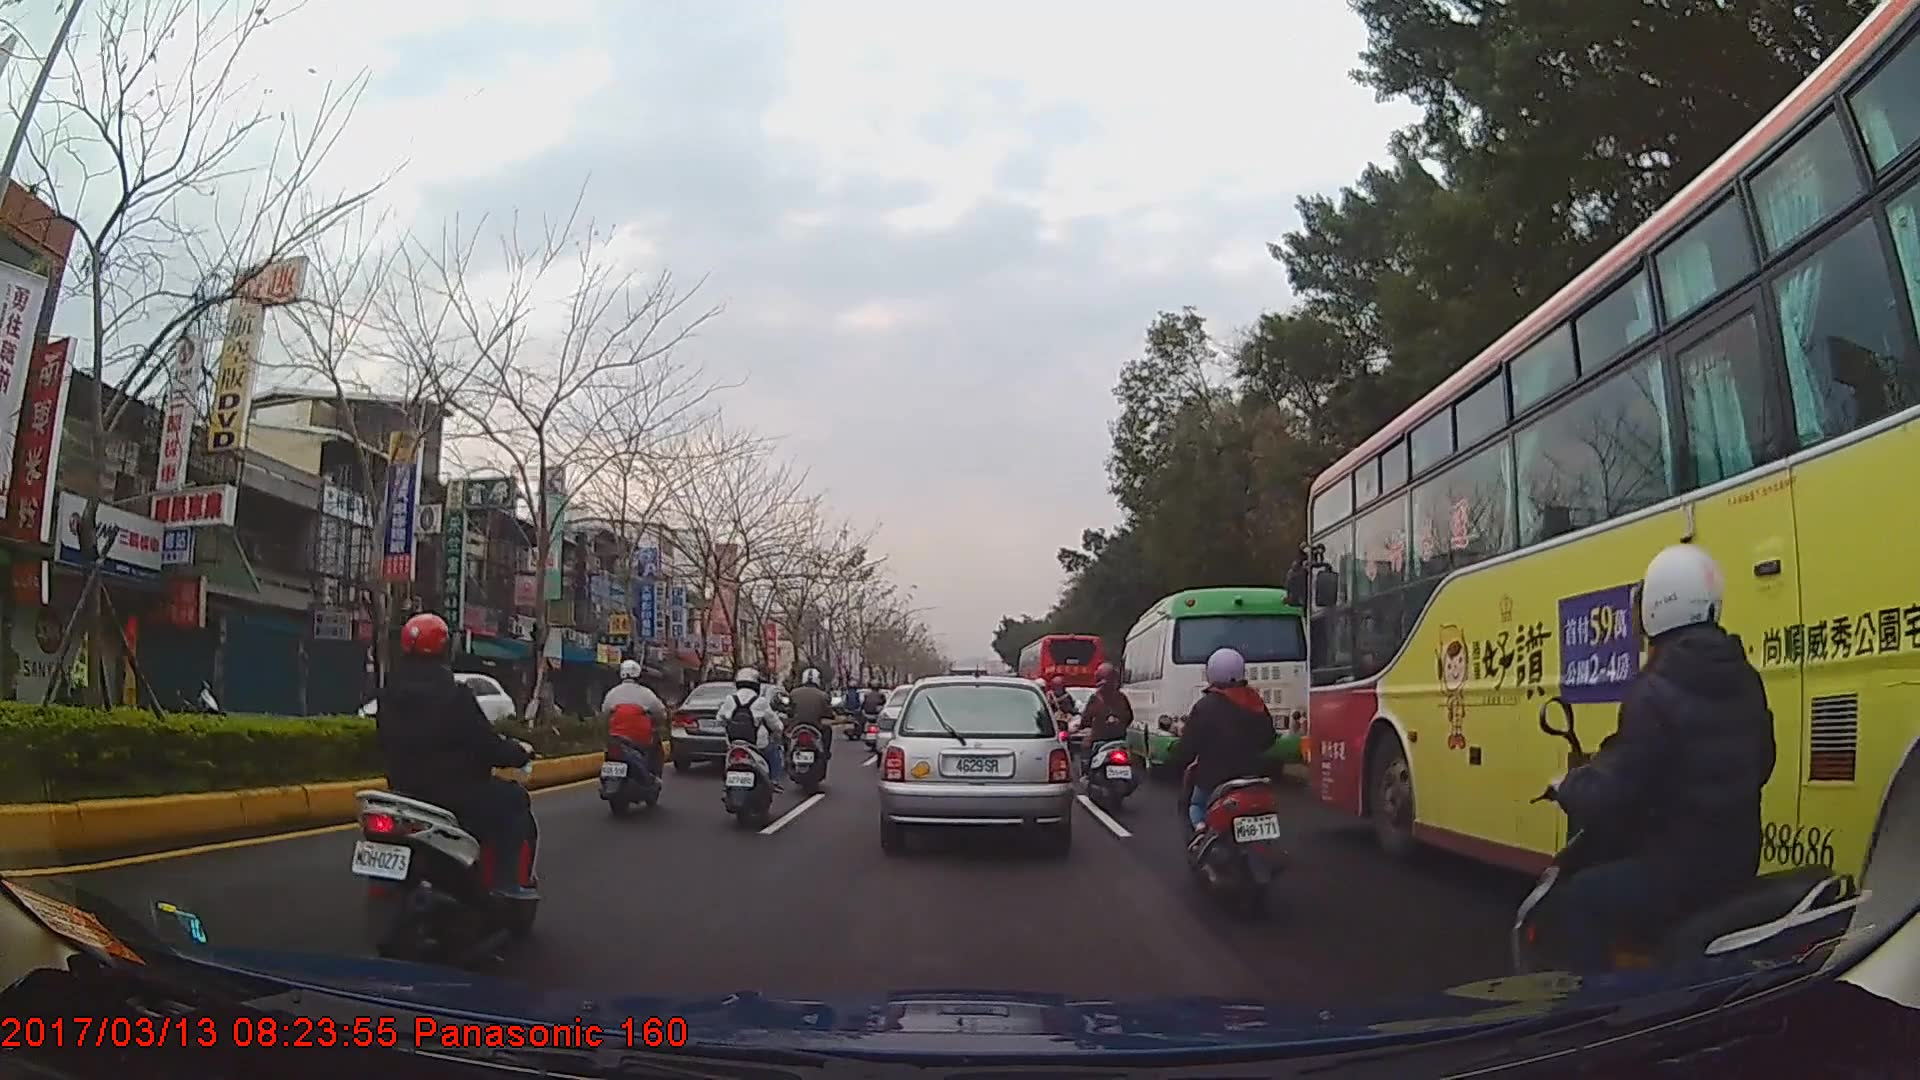rider: (1511, 541, 1873, 1026), (350, 609, 532, 980), (1175, 644, 1295, 921), (603, 658, 671, 816), (719, 666, 786, 825), (1079, 665, 1138, 801), (784, 667, 841, 795), (862, 681, 889, 752), (843, 681, 865, 723)
vehicle: (1305, 0, 1920, 998), (1115, 584, 1312, 774), (879, 672, 1068, 848), (669, 680, 802, 778), (1016, 630, 1105, 740)
